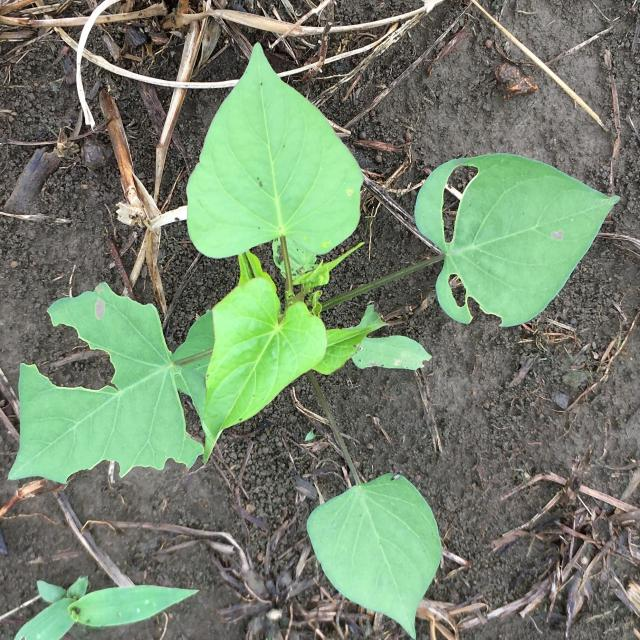MorningGlory: (8, 42, 620, 638)
